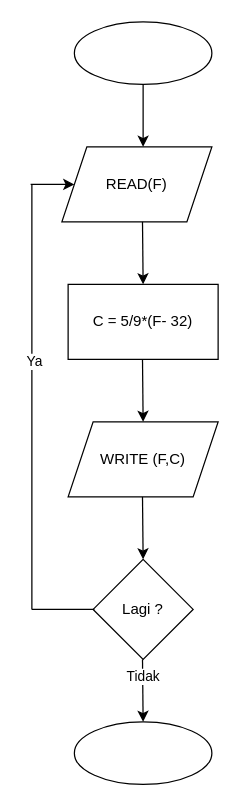
Some shapes in this 240 by 806 pixel diagram are drawn without their labels. Here are the shapes that lost their labels. From the top down, the centre of each, then its label:
(x=142, y=52): Mulai
(x=142, y=752): Stop
